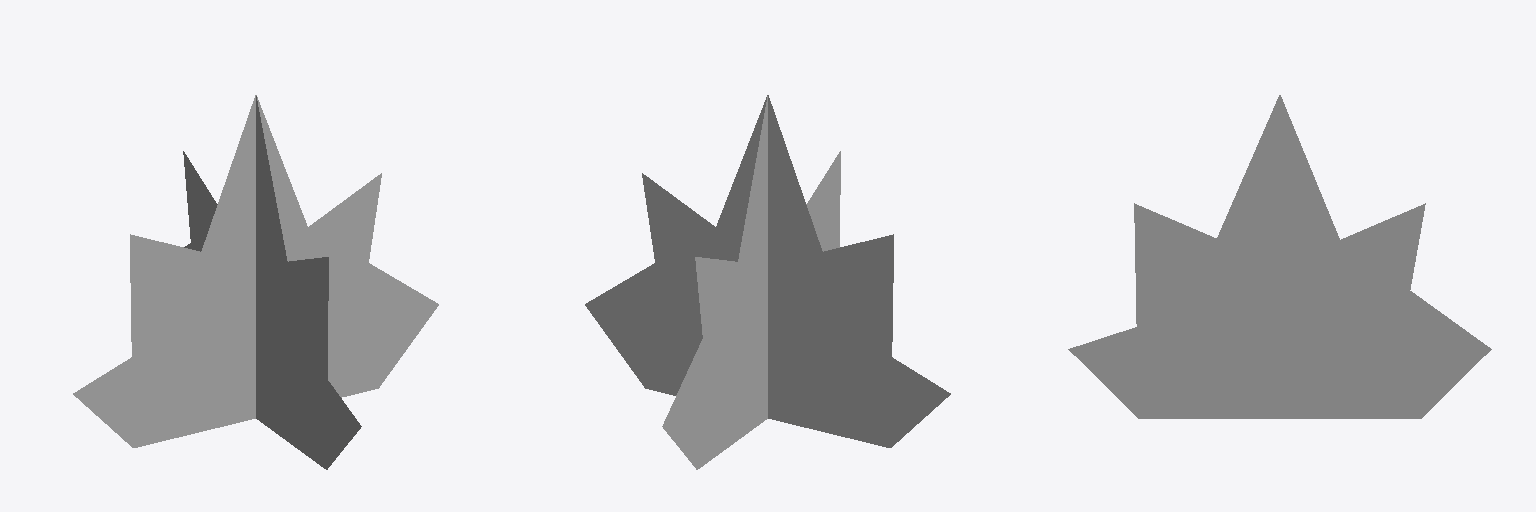
File: Plant_2_01.obj
3 views of the same model, side by side, from view 1: azimuth 30°, elevation 25°; view 2: azimuth 150°, elevation 25°; view 3: azimuth 270°, elevation 25° (orthographic).
Visible parts, largest first — view 1: Mesh1_Plant_2_Model; view 2: Mesh1_Plant_2_Model; view 3: Mesh1_Plant_2_Model.
Boxes of the visible parts, <box> form: Mesh1_Plant_2_Model: <box>73,95,438,469</box>; Mesh1_Plant_2_Model: <box>585,95,950,469</box>; Mesh1_Plant_2_Model: <box>1068,95,1491,418</box>.
Bounding box in the file's own units: 0.7503 × 0.6353 × 0.7503.